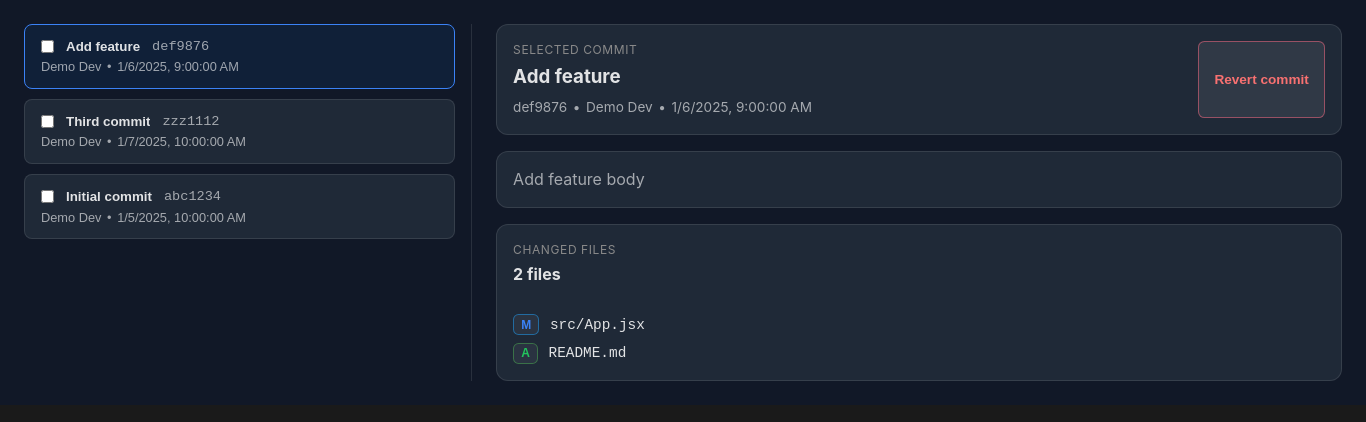
Test: CommitsTab › squash selection rejects a third commit
Click the checkbox with test id "commit-squash-select-def9876". click: (48, 46)
box: [41,40,54,53]
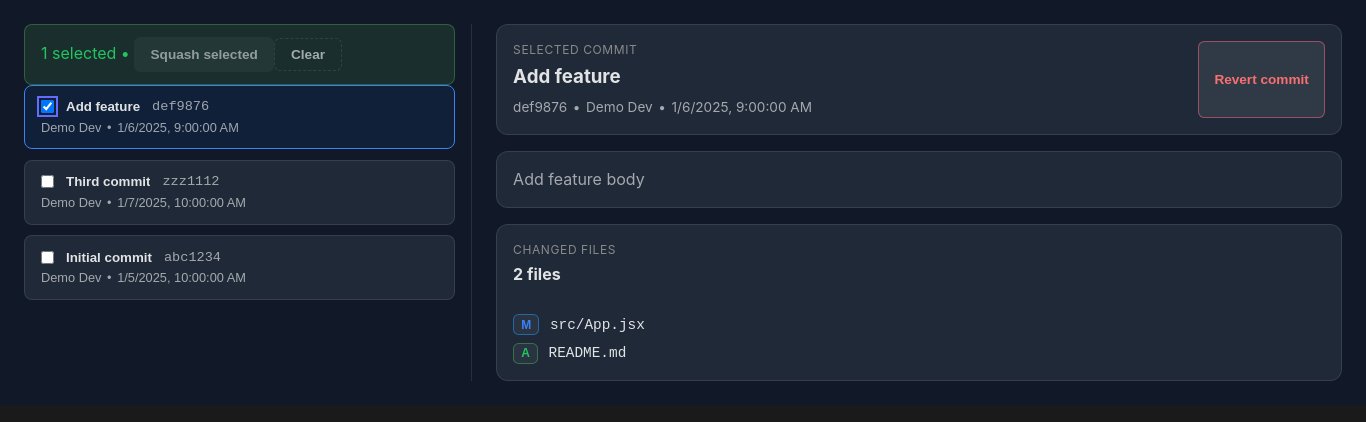
Click the checkbox with test id "commit-squash-select-zzz1112". click: (48, 182)
box: [41,175,54,188]
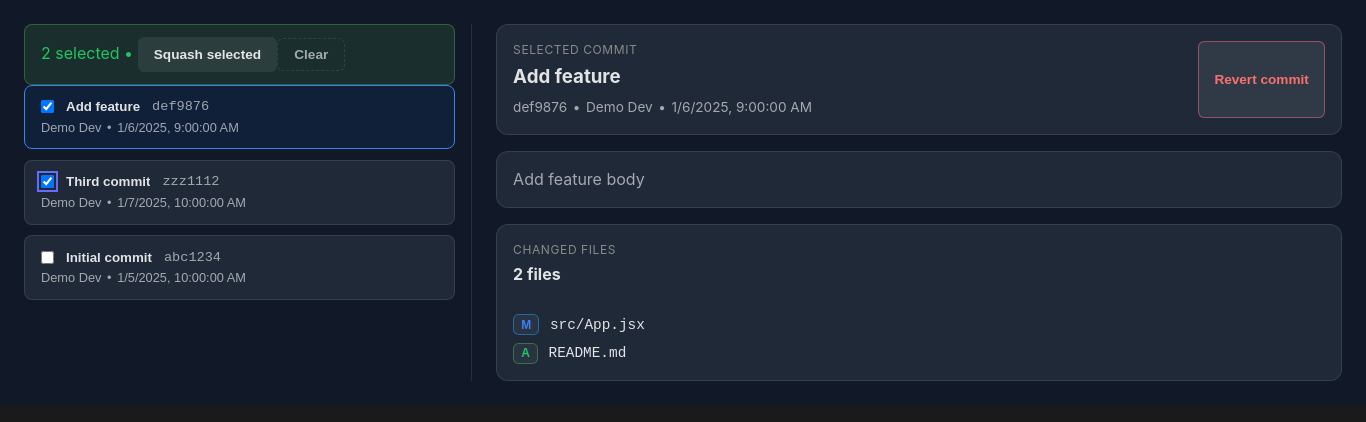
Click the checkbox with test id "commit-squash-select-abc1234". click: (48, 257)
box: [41,250,54,264]
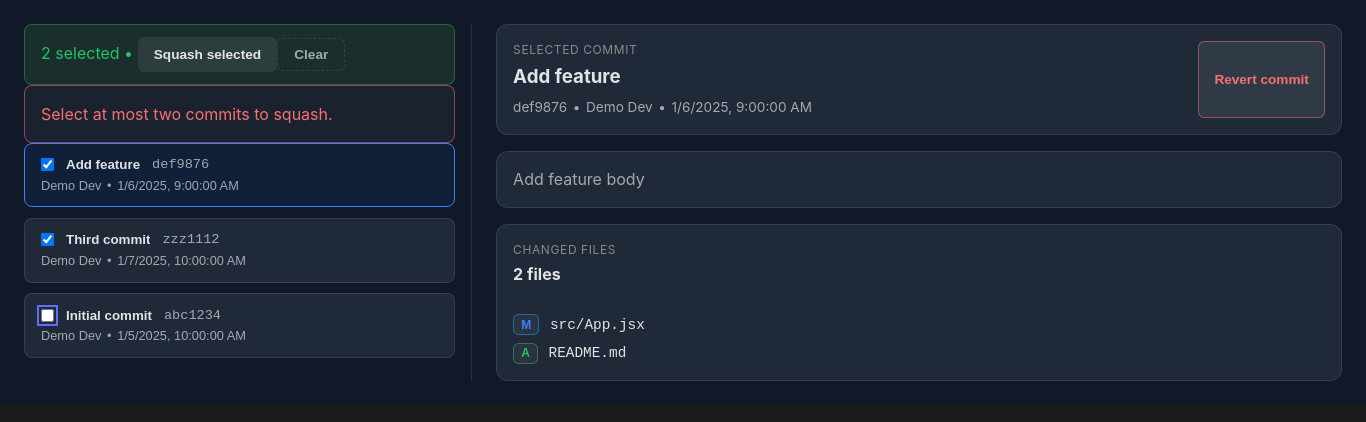
Check: the checkbox with test id "commit-squash-select-abc1234" is not checked, box [41,308,54,322]
Check: the message with test id "commit-squash-error" shows "Select at most two commits", box [41,104,333,124]
